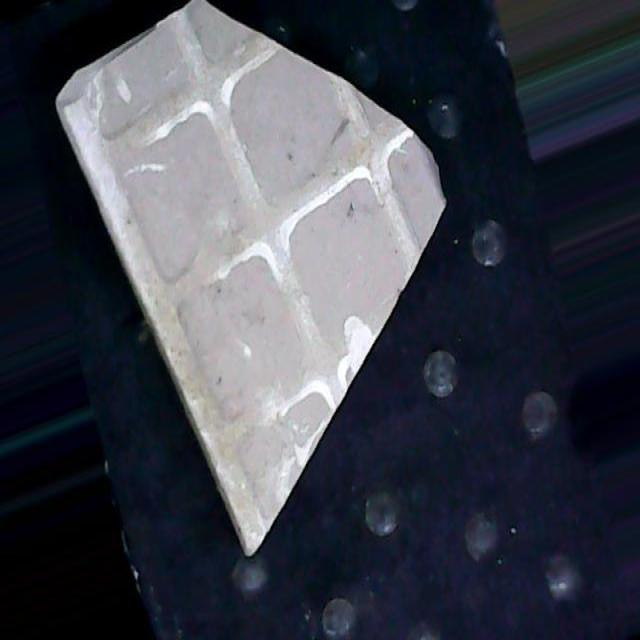-Other waste - ceramic-: (53, 0, 445, 556)
